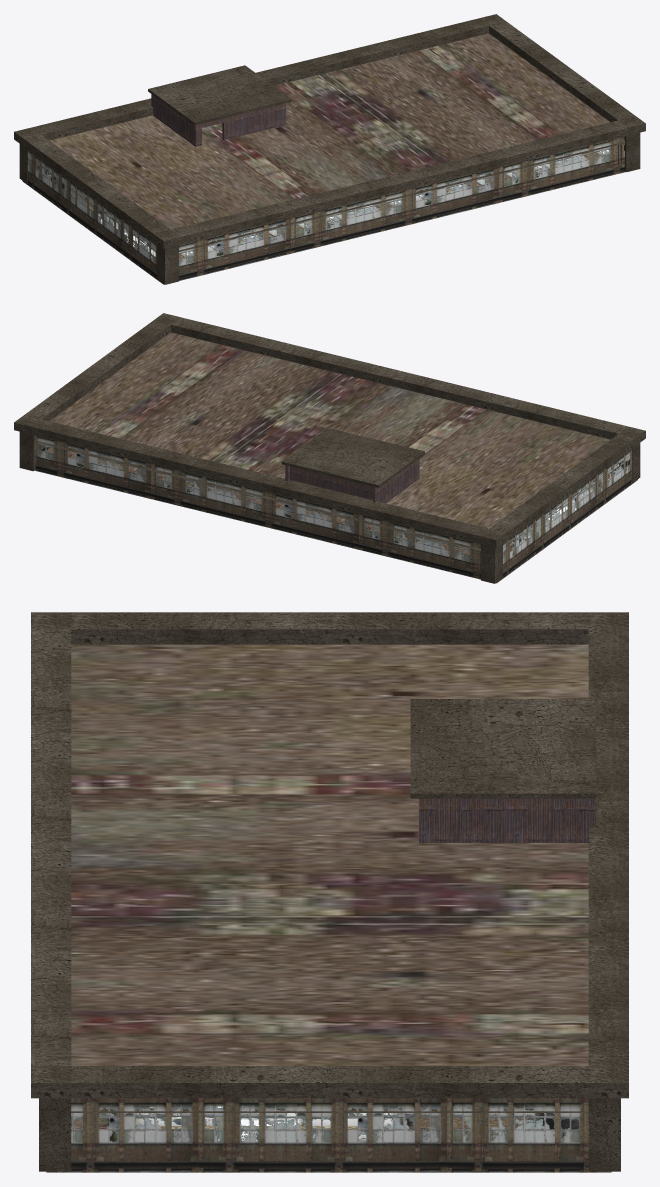
The model's file is BagSS08top_100.fbx.
3 renders of one model, top to bottom at view 1: azimuth 30°, elevation 25°; view 2: azimuth 150°, elevation 25°; view 3: azimuth 270°, elevation 25°, orthographic. The views are drawn at different scales.
Parts seen in each view (by area): view 1: topBox0, topCrete0, topWalls0; view 2: topBox0, topCrete0, topWalls0; view 3: topBox0, topCrete0, topWalls0.
Boxes of the visible parts, x1,y1,x2,y2 form: topBox0: (22,33,625,284); topCrete0: (14,14,645,284); topWalls0: (151,94,285,146); topBox0: (35,332,637,583); topCrete0: (14,313,645,583); topWalls0: (285,458,419,503); topBox0: (46,644,611,1172); topCrete0: (31,612,628,1171); topWalls0: (419,798,596,842).
Size of the model in its own units: 61.81 by 8.02 by 33.18.
